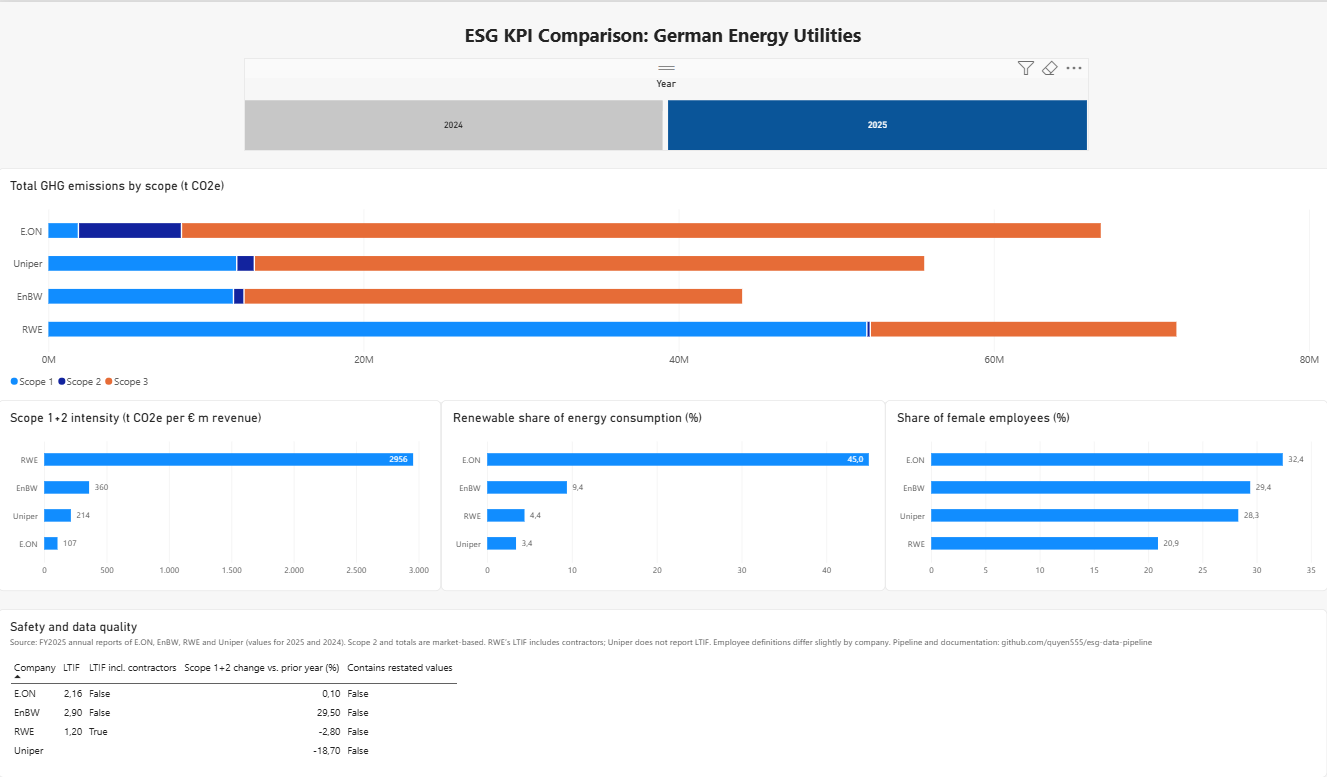

What the dashboard file says about the page in this screenshot:
{"tool":"powerbi","page":{"name":"Page 1","canvas":[1920,1080],"ordinal":0},"visuals":[{"type":"advancedSlicerVisual","title":"Year","fields":{"Values":["company_kpis.report_year"]},"box":[352,80,1205.9,103.7],"z":0},{"type":"barChart","title":"Total GHG emissions by scope (t CO2e)","fields":{"Category":["company_kpis.company"],"Y":["Sum(company_kpis.scope1_t)","Sum(company_kpis.scope2_market_t)","Sum(company_kpis.scope3_t)"]},"box":[0,208,1904,336],"z":1000},{"type":"clusteredBarChart","title":"Scope 1+2 intensity (t CO2e per € m revenue)","fields":{"Category":["company_kpis.company"],"Y":["Sum(company_kpis.ghg_intensity_t_per_eur_m)"]},"box":[0,540,632.9,272.9],"z":2000},{"type":"clusteredBarChart","title":"Renewable share of energy consumption (%)","fields":{"Category":["company_kpis.company"],"Y":["Sum(company_kpis.renewable_share_pct)"]},"box":[632.5,540.1,635.2,272.8],"z":3000},{"type":"clusteredBarChart","title":"Share of female employees (%)","fields":{"Category":["company_kpis.company"],"Y":["Sum(company_kpis.female_share_pct)"]},"box":[1267.7,540.1,632.5,272.8],"z":4000},{"type":"tableEx","title":"Safety and data quality","fields":{"Values":["company_kpis.company","Sum(company_kpis.ltif)","company_kpis.ltif_includes_contractors","Sum(company_kpis.scope12_change_yoy_pct)","company_kpis.has_restated_values"]},"box":[0,838.5,1899.3,241.5],"z":5000},{"type":"textbox","box":[0,0,1899.3,51.9],"z":7000}]}

Visuals, with their boxes on the page's 1920x1080 design canvas (x1, y1, x2, y2). These are canvas units, not pixel positions in the 1327x777 screenshot, which may show the page scaled, cropped or inside an application window:
"Year" advancedSlicerVisual: bbox(352, 80, 1558, 184)
"Total GHG emissions by scope (t CO2e)" barChart: bbox(0, 208, 1904, 544)
"Scope 1+2 intensity (t CO2e per € m revenue)" clusteredBarChart: bbox(0, 540, 633, 813)
"Renewable share of energy consumption (%)" clusteredBarChart: bbox(632, 540, 1268, 813)
"Share of female employees (%)" clusteredBarChart: bbox(1268, 540, 1900, 813)
"Safety and data quality" tableEx: bbox(0, 838, 1899, 1080)
textbox: bbox(0, 0, 1899, 52)
